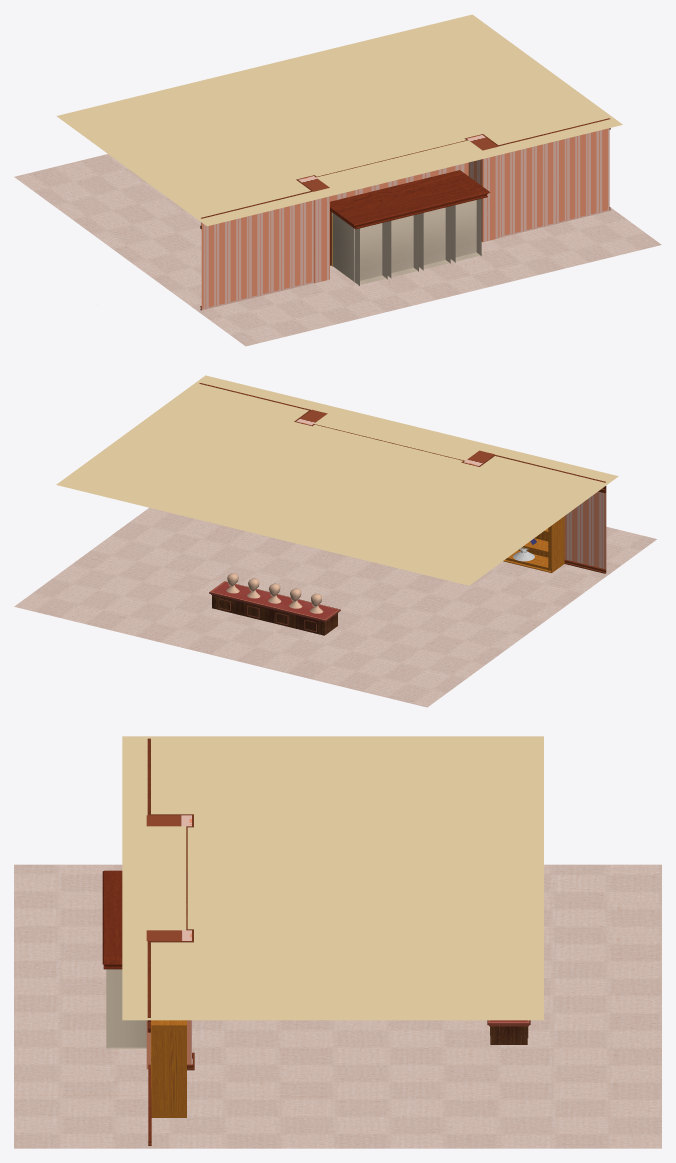
Rendered from stage.fbx.
3 renders of one model, top to bottom at view 1: azimuth 30°, elevation 25°; view 2: azimuth 150°, elevation 25°; view 3: azimuth 270°, elevation 25°, orthographic. The views are drawn at different scales.
Parts seen in each view (by area): view 1: stage_wall_ceiling, stage_floor, stage_Wall_R, stage_Wall_L, stage_Room_pillar, stage_Wall_pillar_L, stage_Wall_pillar_R, stage_Room_wall_R4, stage_Room_Wall4, stage_Room_Wall3, stage_Room_Wall2, stage_Room_Wall1 (+2 smaller); view 2: stage_wall_ceiling, stage_floor, table1, stage_Wall_R, stage_Wall_above, shelf_Wall_R, shelf_under; view 3: stage_wall_ceiling, stage_floor, shelf_WallL_L, stage_Room_pillar, stage_Room_wall_L1, stage_Wall_above, table1, stage_Wall_pillar_L.
Boxes of the visible parts, bbox=[...] form: stage_wall_ceiling: bbox=[56, 14, 622, 226]; stage_floor: bbox=[14, 154, 661, 346]; stage_Wall_R: bbox=[201, 200, 313, 310]; stage_Wall_L: bbox=[498, 128, 609, 237]; stage_Room_pillar: bbox=[330, 170, 489, 265]; stage_Wall_pillar_L: bbox=[467, 135, 498, 242]; stage_Wall_pillar_R: bbox=[298, 176, 329, 283]; stage_Room_wall_R4: bbox=[331, 212, 359, 285]; stage_Room_Wall4: bbox=[354, 223, 382, 282]; stage_Room_Wall3: bbox=[391, 215, 413, 272]; stage_Room_Wall2: bbox=[423, 207, 445, 264]; stage_Room_Wall1: bbox=[455, 200, 476, 257]; stage_wall_ceiling: bbox=[56, 375, 618, 585]; stage_floor: bbox=[14, 507, 656, 707]; table1: bbox=[209, 581, 340, 635]; stage_Wall_R: bbox=[564, 491, 606, 569]; stage_Wall_above: bbox=[199, 383, 606, 492]; shelf_Wall_R: bbox=[548, 516, 564, 568]; shelf_under: bbox=[503, 550, 564, 572]; stage_wall_ceiling: bbox=[122, 736, 543, 1020]; stage_floor: bbox=[14, 864, 661, 1148]; shelf_WallL_L: bbox=[151, 1030, 186, 1111]; stage_Room_pillar: bbox=[102, 870, 122, 969]; stage_Room_wall_L1: bbox=[106, 969, 146, 1048]; stage_Wall_above: bbox=[147, 738, 193, 1032]; table1: bbox=[487, 1020, 530, 1044]; stage_Wall_pillar_L: bbox=[146, 930, 191, 1069].
Size of the model in its own units: 14039 by 2511 by 11437.
